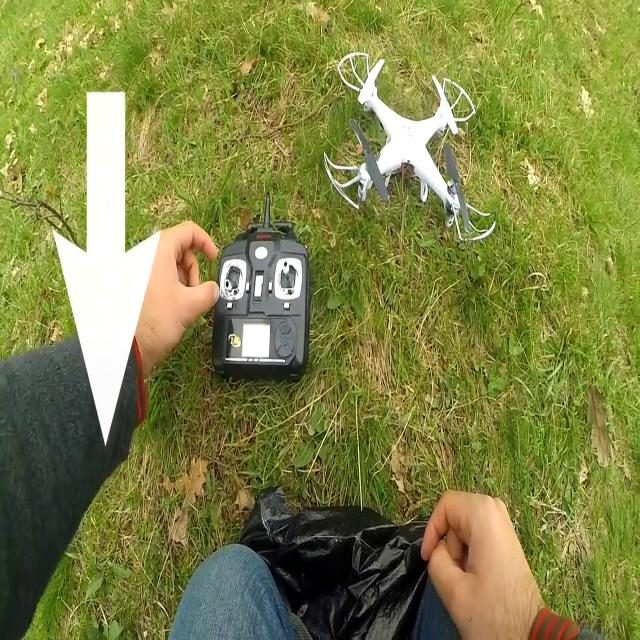drones: (331, 45, 497, 256)
